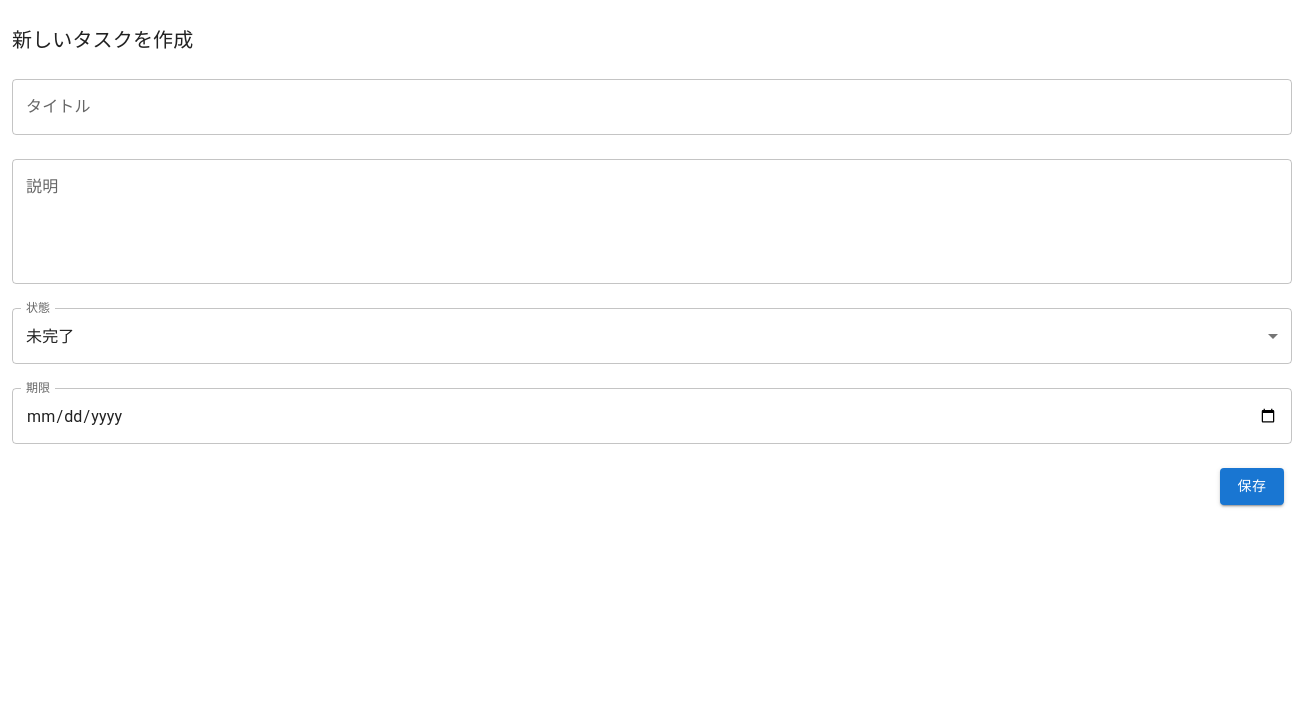
Test case: TaskForm › バリデーションエラーが発生したときにエラーメッセージが表示されること
In the field labelled "タイトル": (652, 107) [12,79,1292,135], type "長すぎるタイトルaaaaaaaaaaaaaaaaa"
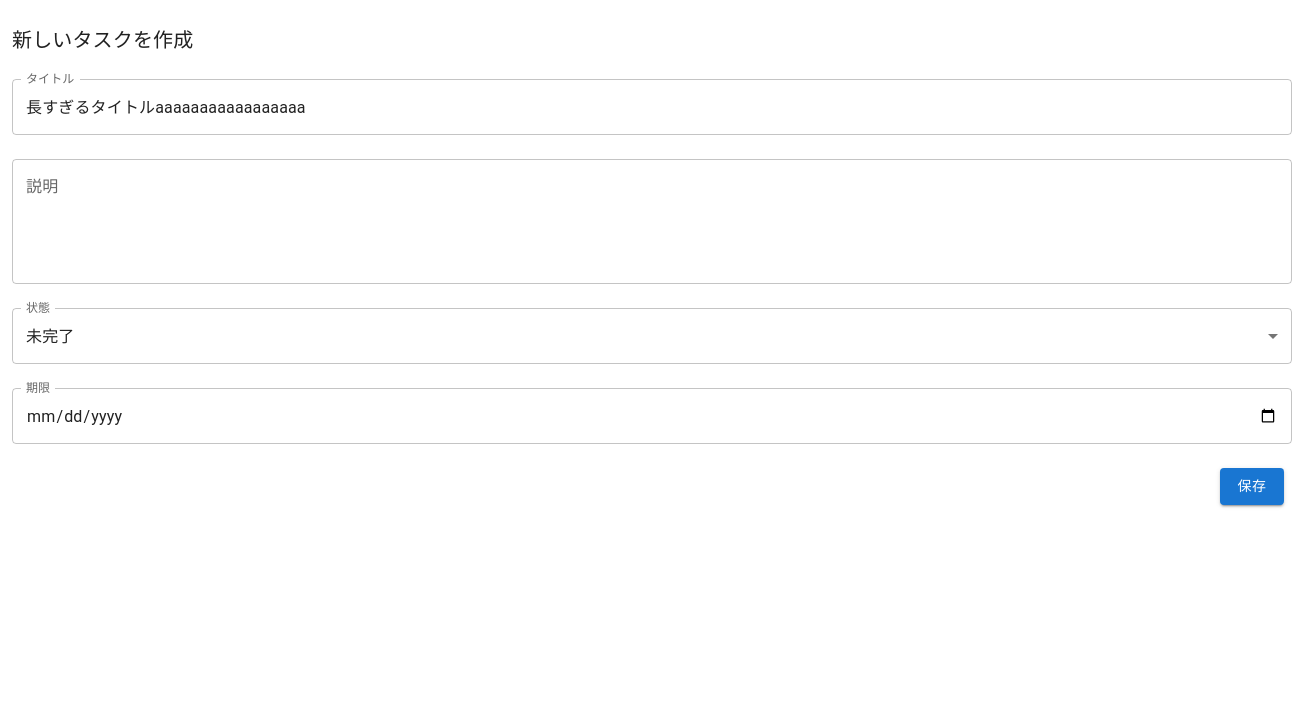
Leave the field labelled "タイトル", box [12,79,1292,135]
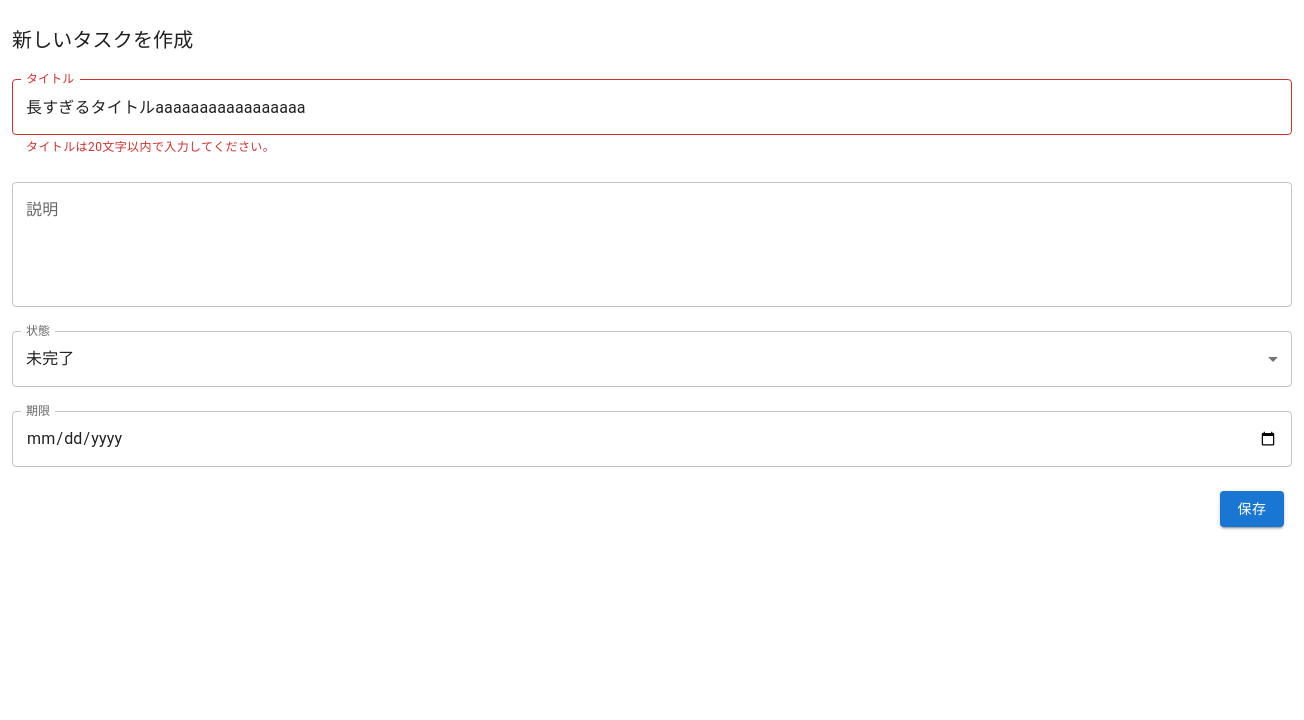
Expected: the text "タイトルは20文字以内で入力してください。" is shown, [26,140,275,154]
